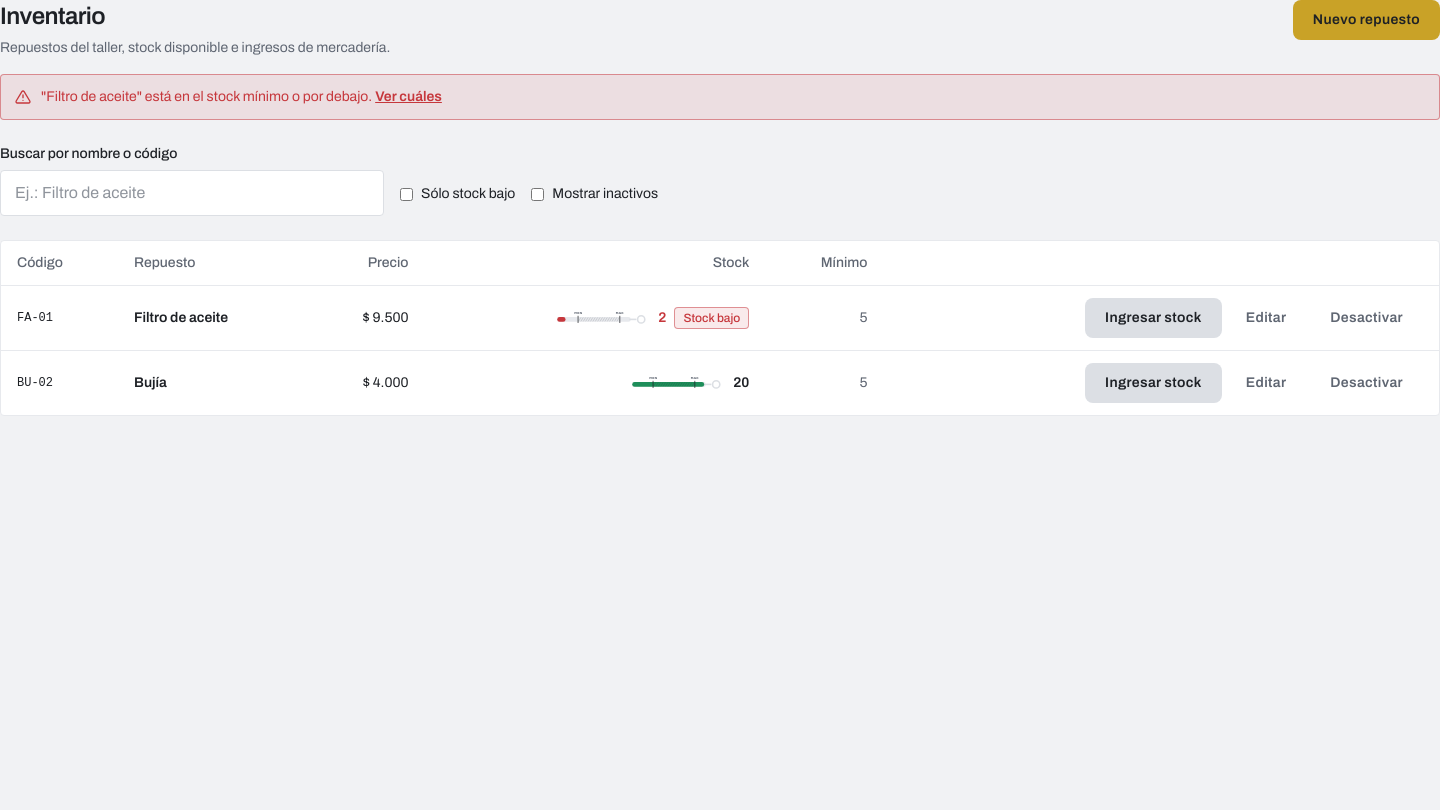
Test: Inventario › Nuevo repuesto crea con el precio en formato argentino
Expected: the table is shown, x1=1 y1=241 x2=1439 y2=415
Click the button "Nuevo repuesto" at (1366,20), box x1=1293 y1=0 x2=1439 y2=40
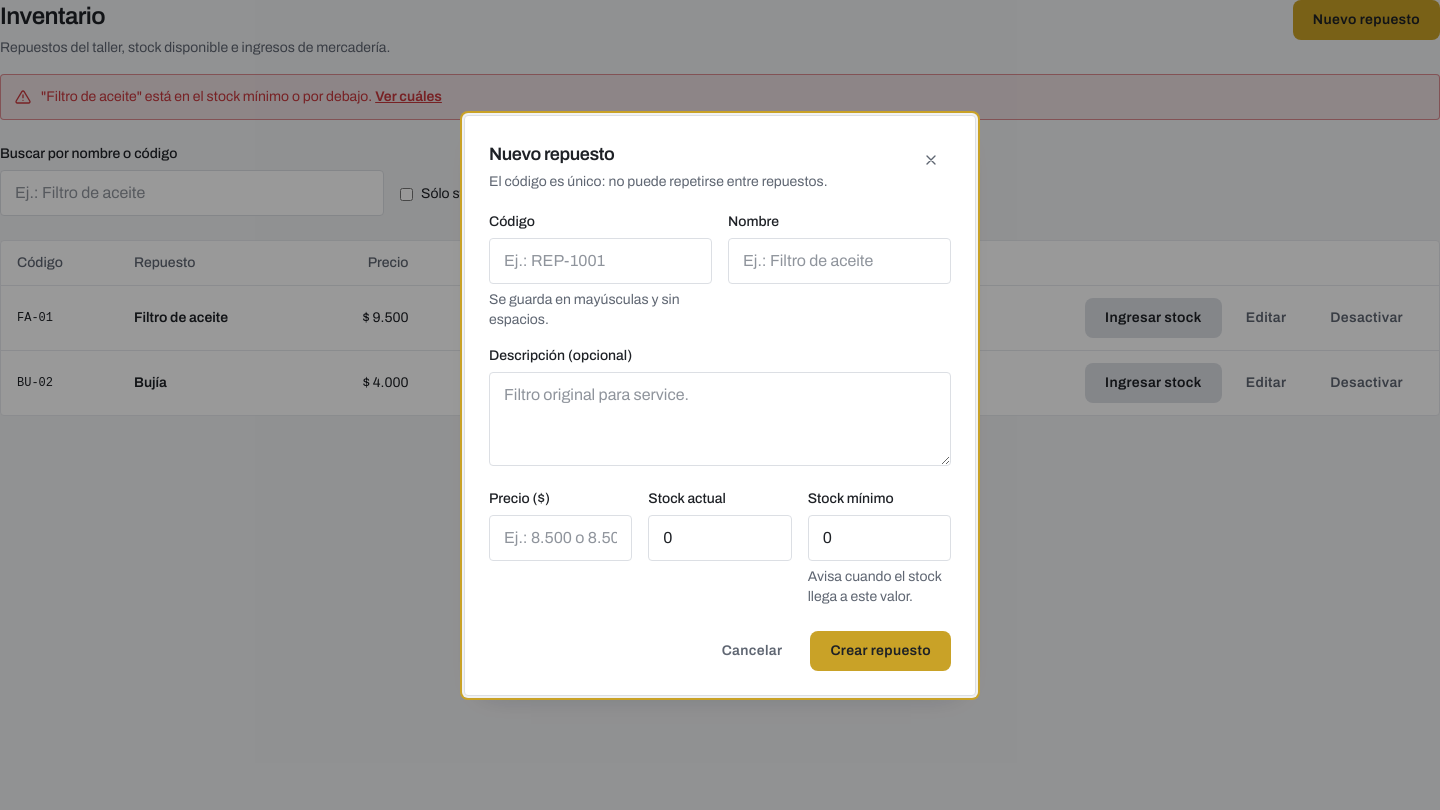
Type "AM-01" into the field labelled "Código" at (600,260), box x1=489 y1=238 x2=712 y2=284
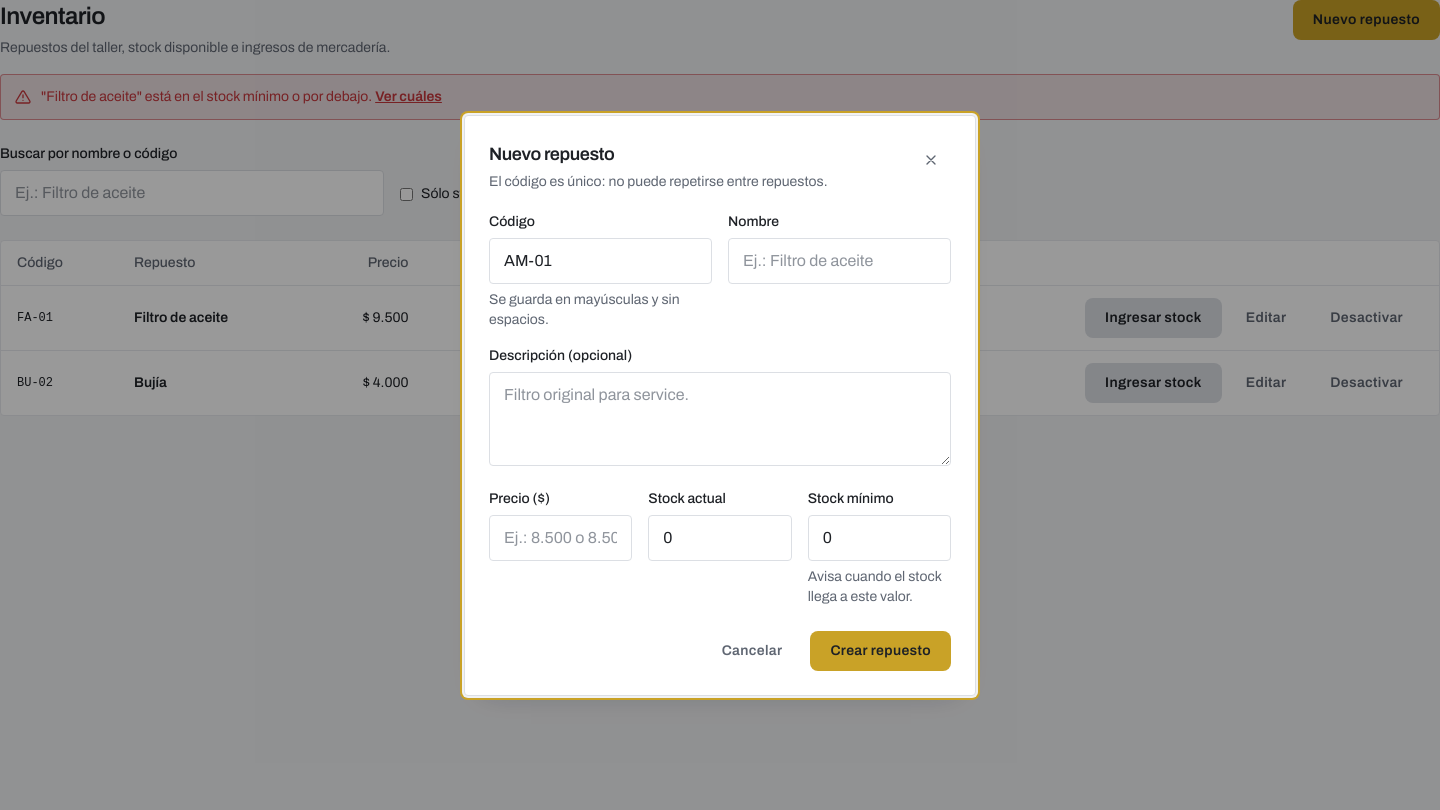
Type "Amortiguador" into the field labelled "Nombre" at (840,260), box x1=728 y1=238 x2=951 y2=284
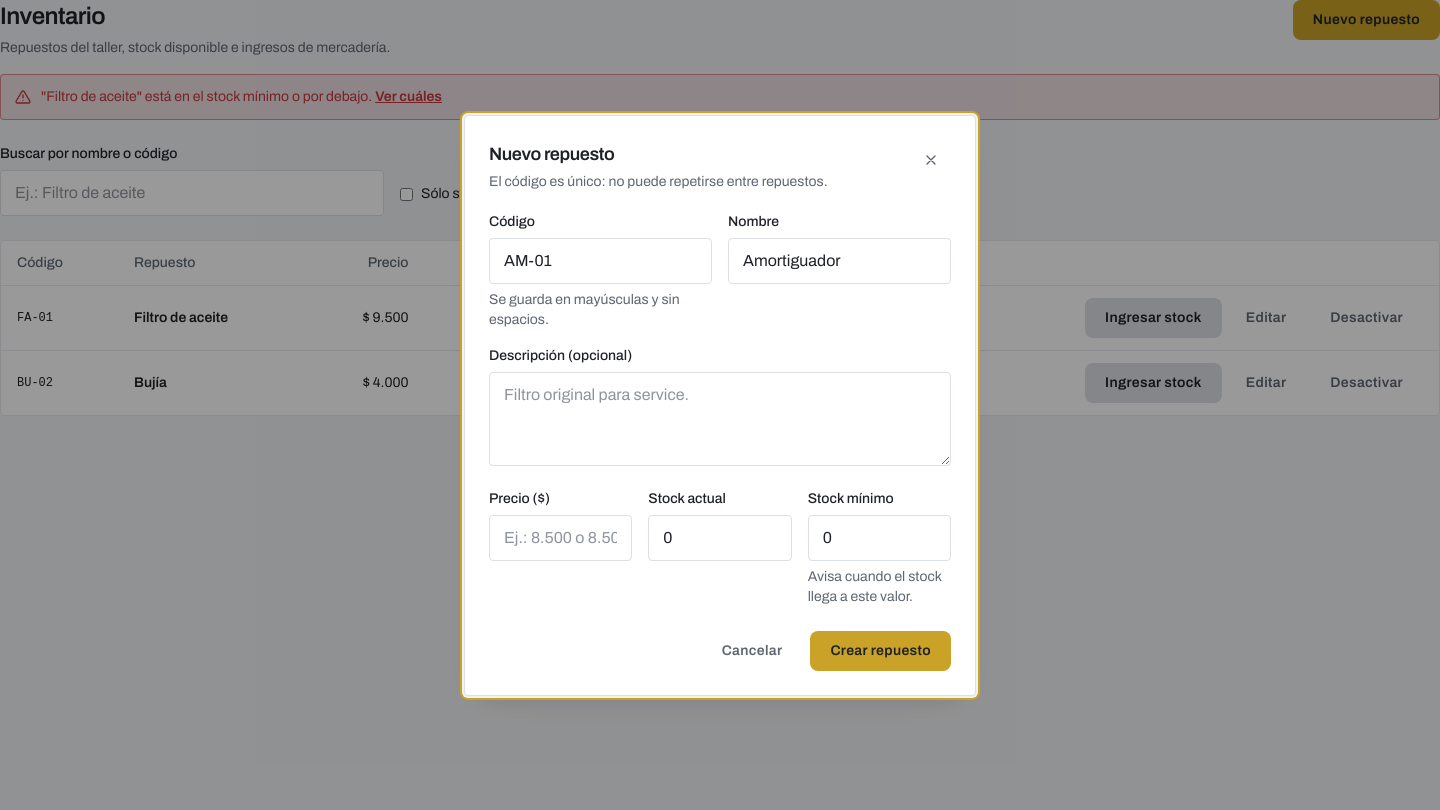
Type "85.000" into the field labelled "Precio ($)" at (561,538), box x1=489 y1=514 x2=632 y2=560
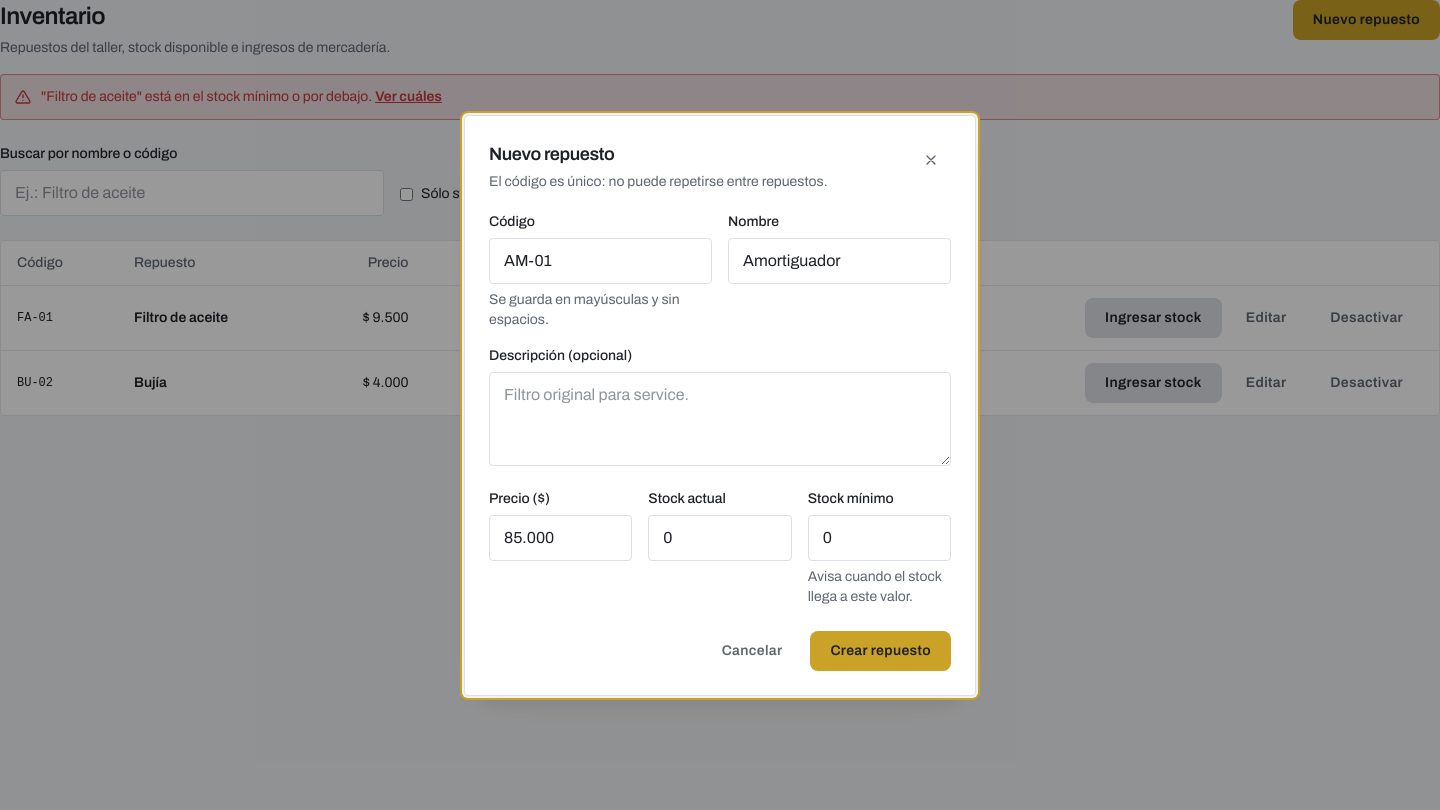
Submit the form labelled "Código", box x1=489 y1=212 x2=951 y2=670
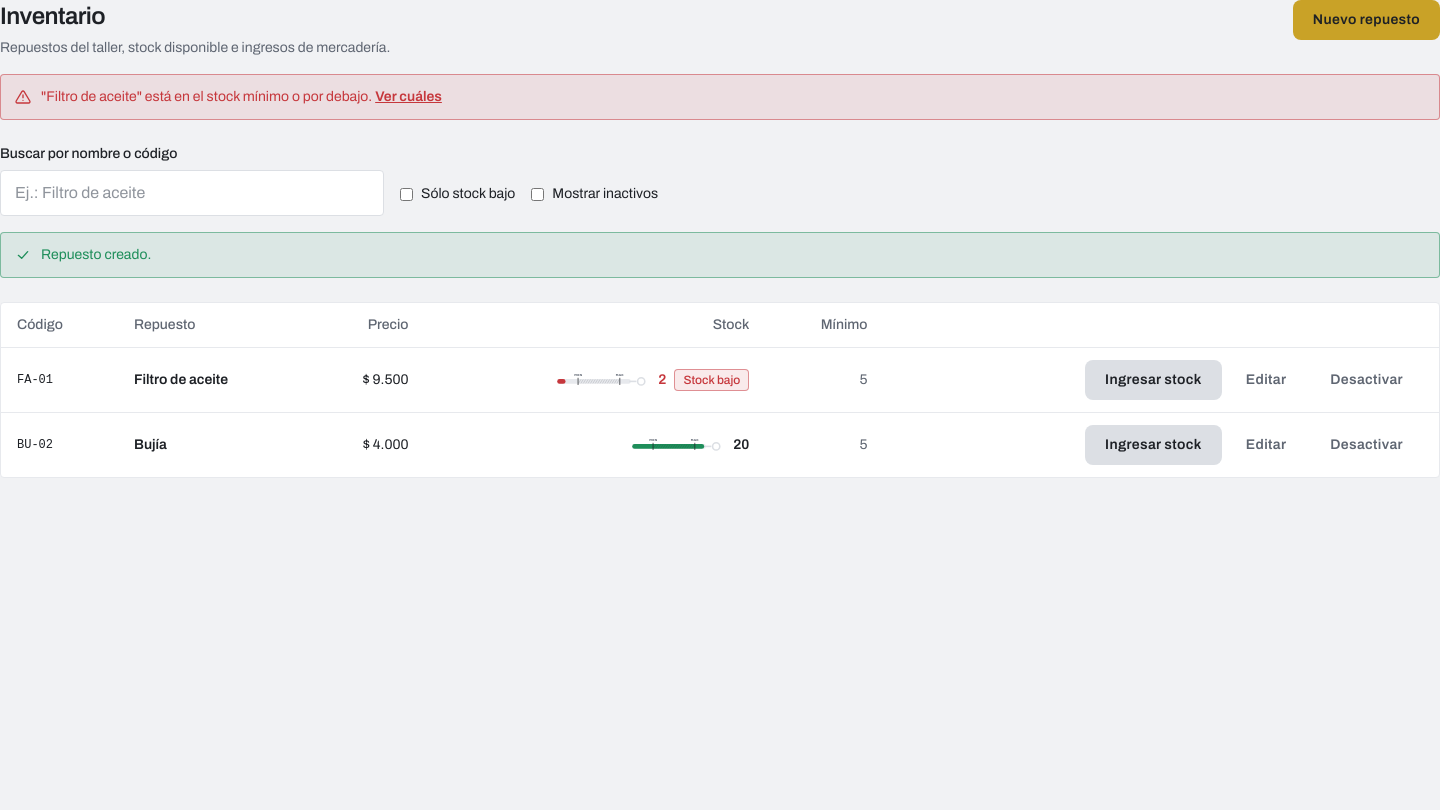
Now the text "Repuesto creado." is shown, box x1=41 y1=247 x2=151 y2=262
